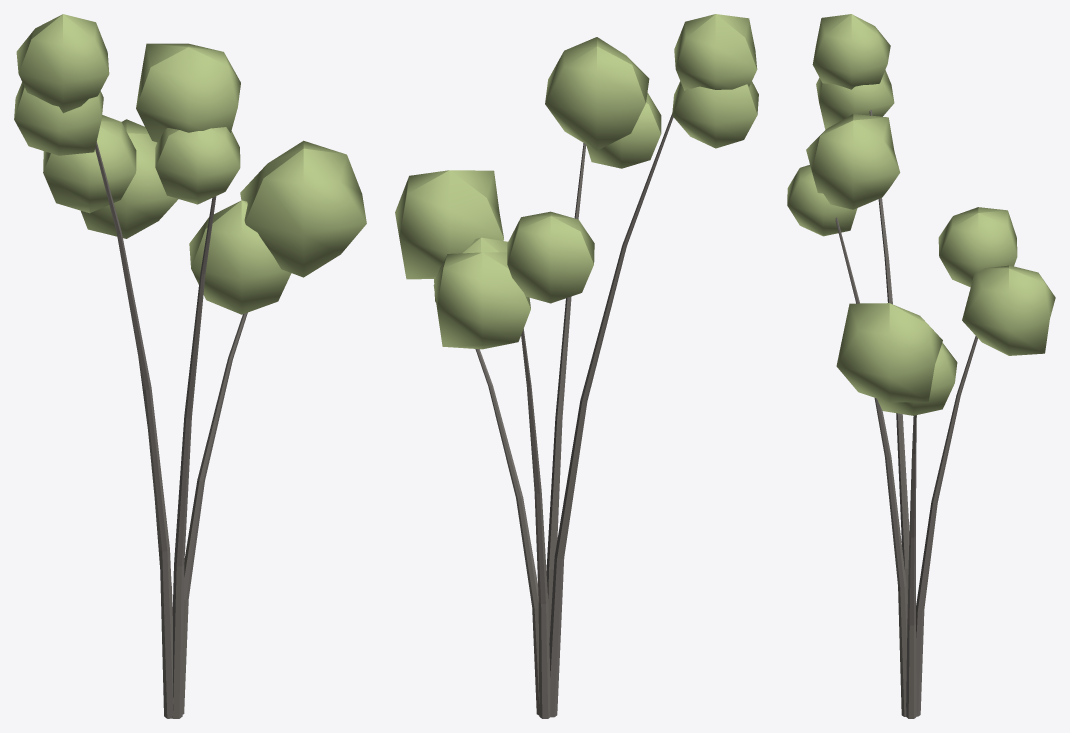
File: dense-temperate-forest-flora-rowan-young-97566e7d__28326.glb
3 views of the same model, side by side, from view 1: azimuth 30°, elevation 25°; view 2: azimuth 150°, elevation 25°; view 3: azimuth 270°, elevation 25° (orthographic). The views are drawn at different scales.
Visible parts, largest first — view 1: rowan-young; view 2: rowan-young; view 3: rowan-young.
Boxes of the visible parts, bbox=[...] form: rowan-young: bbox=[14, 14, 366, 718]; rowan-young: bbox=[395, 14, 758, 718]; rowan-young: bbox=[787, 14, 1055, 718].
Bounding box in the file's own units: 1.97 × 3.89 × 1.48.
